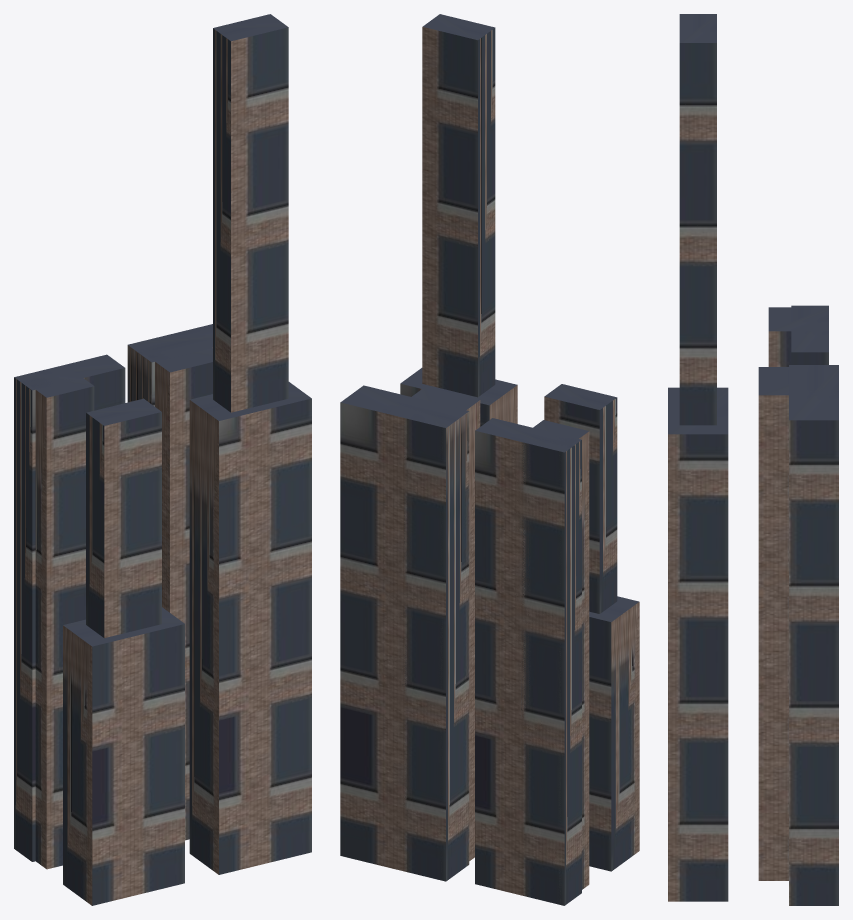
File: block_11.obj
The picture shows the model from 3 angles, left to right: view 1: azimuth 30°, elevation 25°; view 2: azimuth 150°, elevation 25°; view 3: azimuth 270°, elevation 25°; orthographic projection. The views are drawn at different scales.
Visible parts, largest first — view 1: b3, b1, b0, b2; view 2: b2, b0, b3, b1; view 3: b3, b2, b0.
Boxes of the visible parts, x1,y1,x2,y2 form: b3: (189, 14, 311, 874); b1: (63, 398, 184, 905); b0: (14, 354, 125, 869); b2: (127, 324, 212, 840); b2: (340, 385, 480, 881); b0: (475, 418, 589, 905); b3: (400, 14, 517, 426); b1: (544, 384, 639, 871); b3: (668, 14, 728, 901); b2: (758, 365, 838, 905); b0: (768, 305, 828, 366).
Size of the model in its own units: 4.05 by 14 by 2.55.
